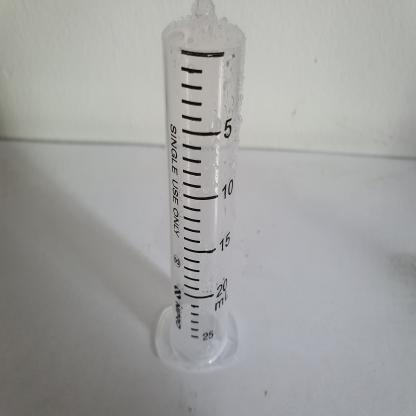wet: (151, 0, 243, 367)
